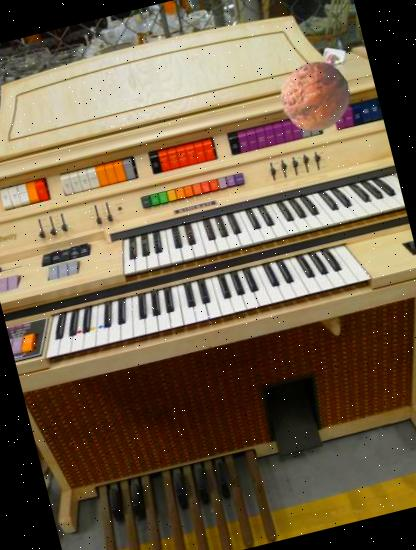Walnut: (272, 54, 358, 140)
